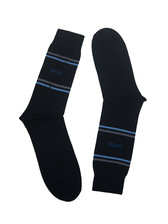sock: (18, 27, 85, 202), (87, 28, 150, 203)
